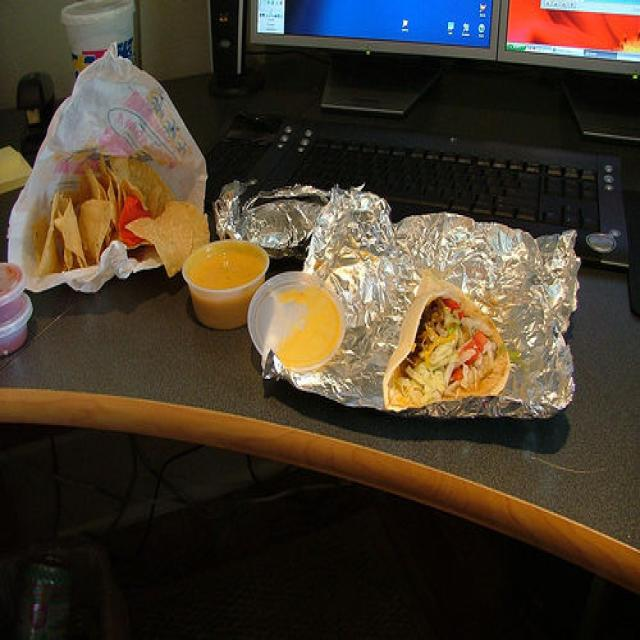tvmonitor: (243, 1, 503, 120), (496, 1, 639, 144)
